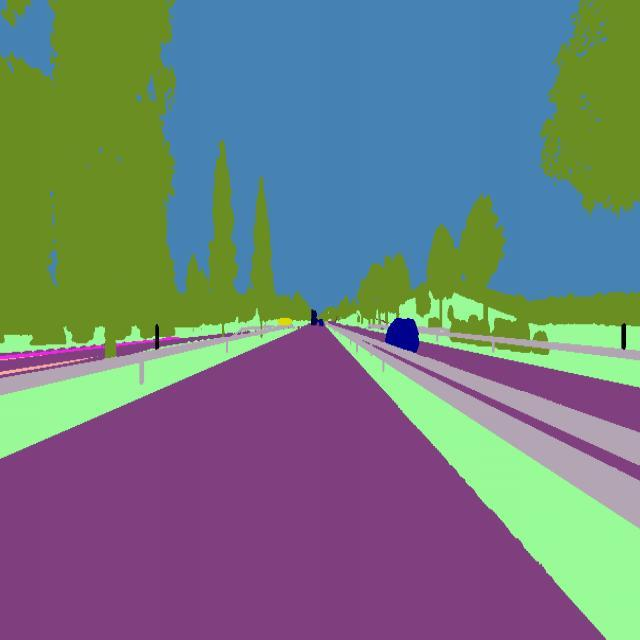safe: (382, 312, 422, 361), (310, 309, 318, 327), (318, 318, 326, 331)
